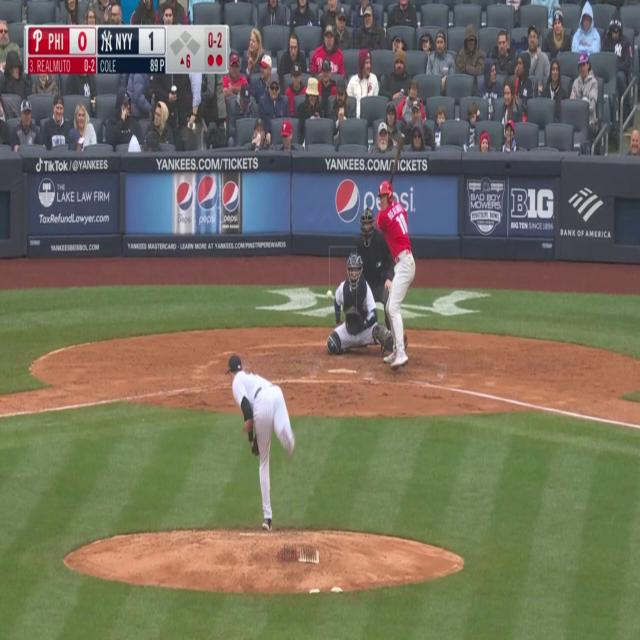baseball: (327, 290, 332, 299)
